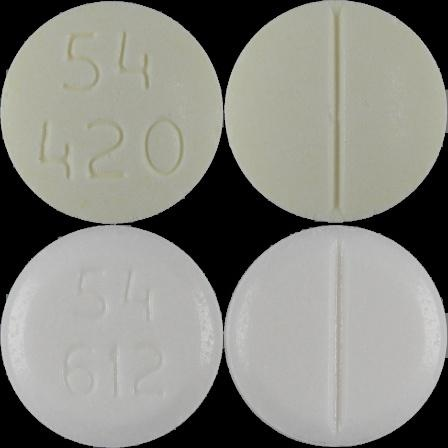0054-4581: (0, 0, 224, 224)
